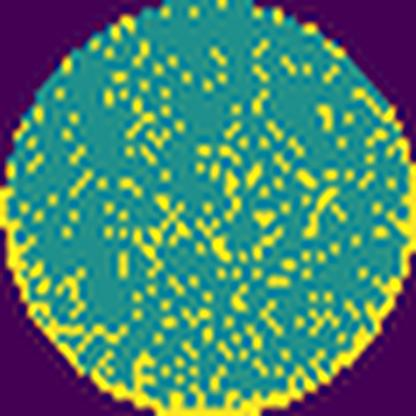Edge-Ring: (0, 95, 415, 416)
